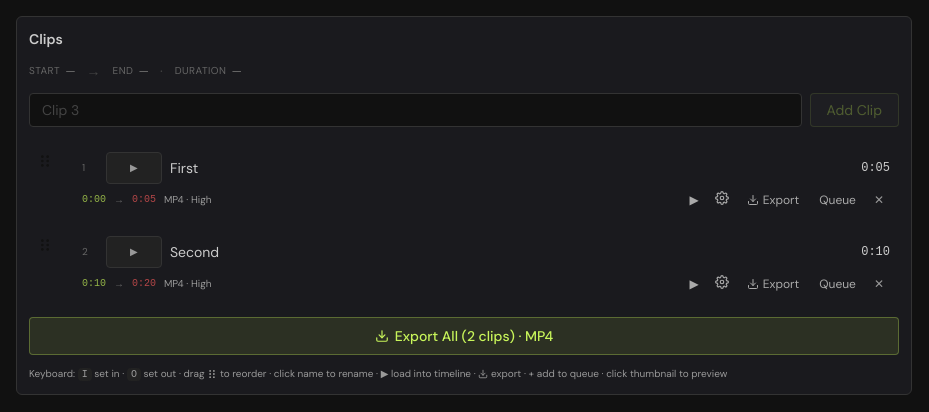
Test: ClipList — swipe-to-delete › shows "Swipe to delete" hint when swiping left but not past threshold
Step 1. Press the mouse on the text "First" → (134, 168), box x1=29 y1=143 x2=899 y2=221
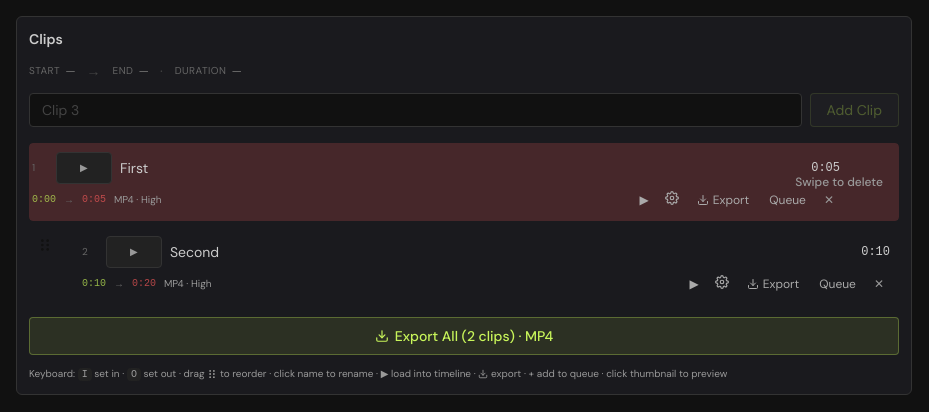
expect the text "Swipe to delete" is shown: met, box x1=795 y1=174 x2=883 y2=190
